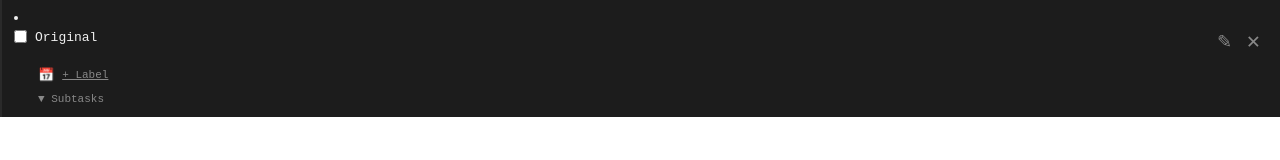
TaskRow — inline edit mode (Story 2.4) › pressing Escape exits edit mode without firing mutation (AC3)
The width and height of the screenshot is (1280, 160).
Click the button named "edit task title" at (1224, 42), box x1=1210 y1=28 x2=1239 y2=58
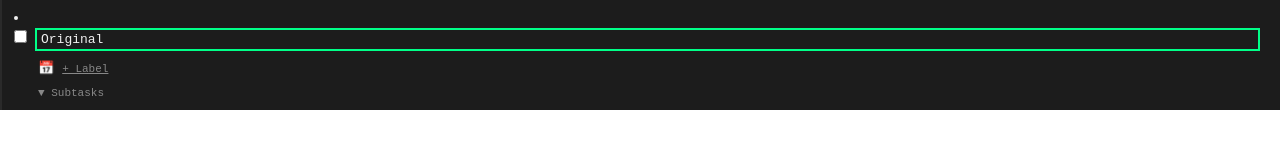
Replace the text in the field named "edit task title: original" with "Cancelled change" at (648, 39), box x1=35 y1=28 x2=1260 y2=51
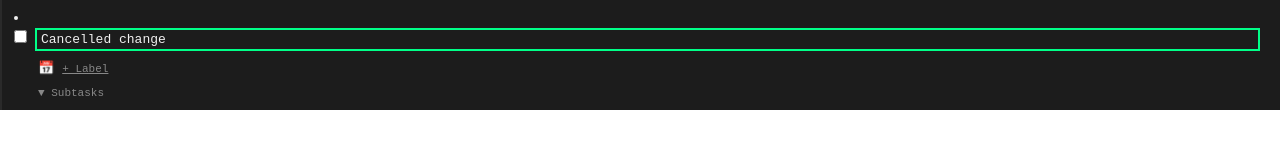
Press Escape
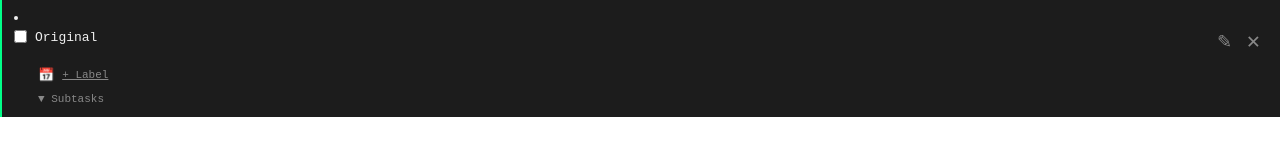
Expected: the field is gone
Expected: the text "Original" is shown, x1=35 y1=30 x2=97 y2=44
